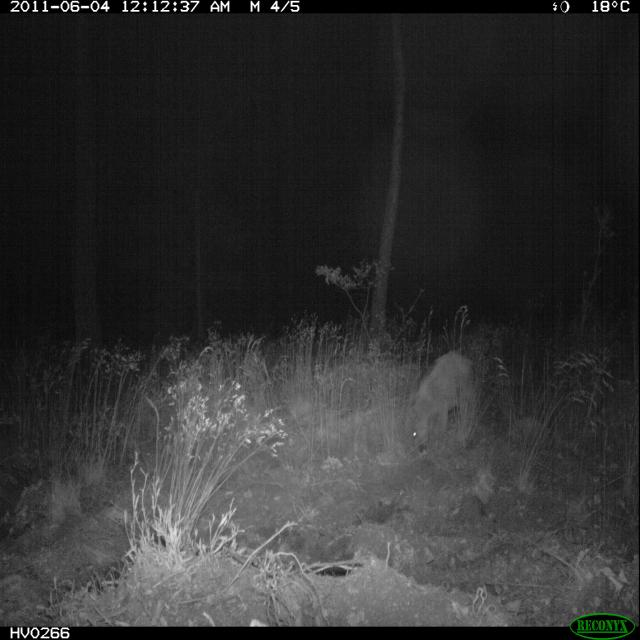boar: (387, 328, 513, 472)
